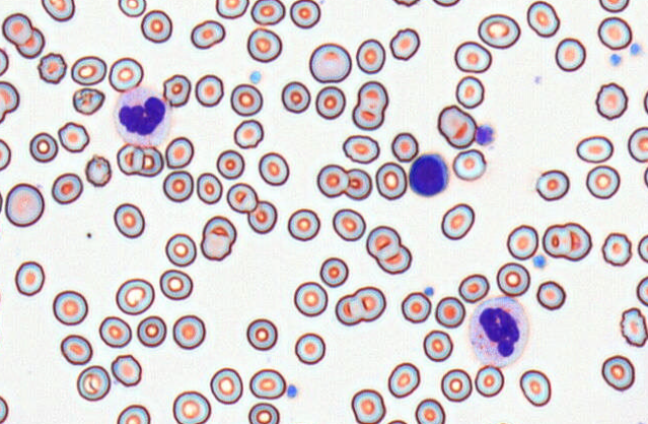GRAN: (113, 86, 178, 147), (469, 296, 528, 362)
LYM: (409, 152, 449, 198)
PLT: (475, 123, 494, 145), (608, 53, 625, 69), (628, 43, 644, 59), (248, 70, 265, 85), (531, 251, 546, 268), (287, 384, 298, 399), (423, 285, 436, 297)
RBC: (365, 225, 411, 274), (334, 285, 386, 326), (542, 222, 592, 261), (351, 80, 388, 130), (4, 182, 44, 227), (308, 42, 351, 83), (437, 104, 476, 148), (116, 142, 164, 177), (200, 215, 236, 261), (477, 13, 520, 49), (115, 278, 154, 315), (52, 289, 88, 325), (440, 202, 474, 240), (172, 390, 211, 423), (350, 388, 386, 423), (108, 56, 143, 92), (76, 365, 111, 401), (293, 281, 328, 317), (246, 27, 282, 62), (526, 0, 560, 37), (601, 354, 635, 391), (209, 367, 243, 404), (595, 82, 628, 120), (454, 40, 492, 73), (375, 161, 407, 200), (585, 164, 620, 199), (496, 261, 530, 297), (519, 369, 551, 407), (597, 16, 632, 50), (387, 362, 420, 398), (172, 314, 205, 349), (506, 224, 538, 260), (113, 202, 145, 238), (249, 368, 286, 399), (316, 163, 349, 197), (98, 315, 132, 348), (452, 148, 486, 181), (332, 208, 366, 241), (14, 260, 45, 296), (342, 134, 379, 164), (230, 83, 263, 116), (287, 208, 320, 241), (440, 368, 472, 402), (140, 9, 172, 43), (554, 37, 586, 71), (535, 169, 569, 201), (258, 151, 289, 186), (355, 38, 385, 74), (70, 55, 106, 85), (1, 12, 33, 45), (159, 269, 193, 300), (165, 233, 196, 267), (601, 232, 632, 266), (247, 199, 277, 234), (190, 19, 225, 49), (576, 135, 613, 163), (110, 354, 142, 386), (51, 172, 83, 204), (422, 329, 453, 362), (434, 295, 465, 328), (315, 85, 345, 119), (226, 182, 258, 213), (400, 291, 431, 323), (36, 52, 67, 84), (162, 170, 193, 202), (60, 334, 92, 365), (294, 332, 325, 364), (246, 318, 277, 350), (474, 364, 504, 397), (194, 74, 224, 107), (15, 26, 45, 58), (136, 315, 166, 347), (164, 136, 194, 168), (343, 167, 372, 200), (455, 75, 484, 108), (281, 80, 310, 113), (233, 119, 264, 149), (458, 273, 489, 303), (536, 280, 566, 310), (319, 256, 348, 287), (29, 131, 58, 162), (289, 0, 321, 28), (250, 0, 285, 25), (390, 131, 418, 162), (216, 149, 244, 179), (196, 172, 222, 204), (0, 80, 19, 122), (414, 398, 445, 423), (627, 126, 647, 163), (41, 0, 75, 21), (248, 402, 280, 423), (215, 0, 249, 19), (116, 404, 150, 423), (117, 0, 146, 17), (598, 0, 629, 12), (0, 138, 11, 171), (636, 275, 647, 306), (637, 234, 647, 263), (0, 47, 9, 76), (0, 395, 8, 423), (432, 0, 460, 7), (392, 0, 420, 7), (643, 89, 648, 114), (643, 165, 648, 188), (386, 418, 408, 423), (0, 325, 3, 354), (0, 186, 3, 214)
Schistocyte: (619, 304, 648, 349), (390, 26, 421, 64), (58, 122, 91, 155), (70, 87, 105, 117), (86, 155, 111, 188)
